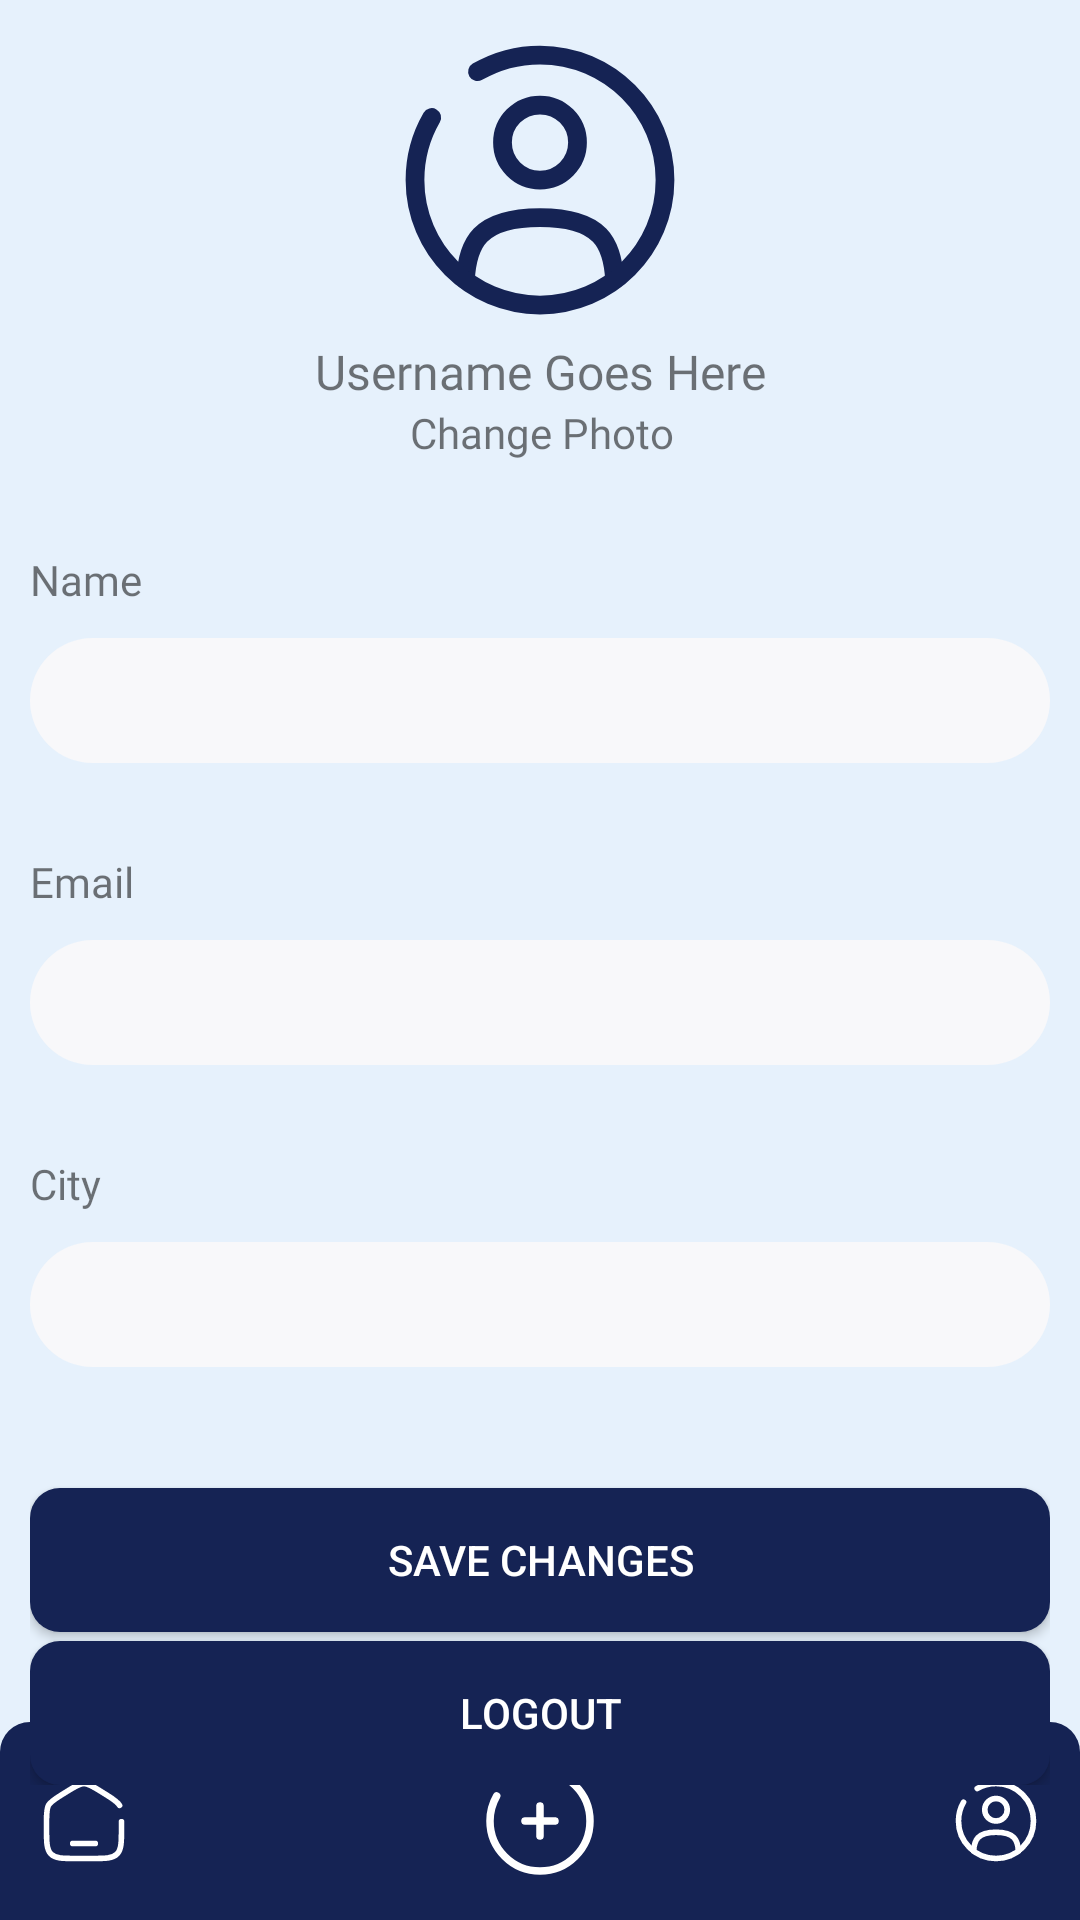

Named icons in this screenshot (1080*1920) and their bounding boxes, (x1=x1, y1=y1, x2=x2, y2=y2):
add: (x1=486, y1=1785, x2=594, y2=1875)
home: (x1=43, y1=1785, x2=125, y2=1862)
